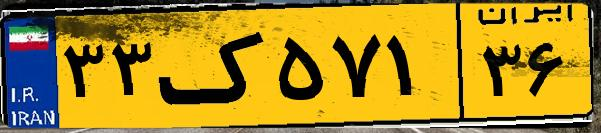1: (385, 28, 445, 110)
3: (57, 26, 110, 100), (475, 38, 525, 113), (110, 28, 158, 98)
5: (270, 28, 330, 110)
6: (525, 38, 570, 115)
7: (330, 28, 385, 110)
ک: (158, 12, 270, 120)
